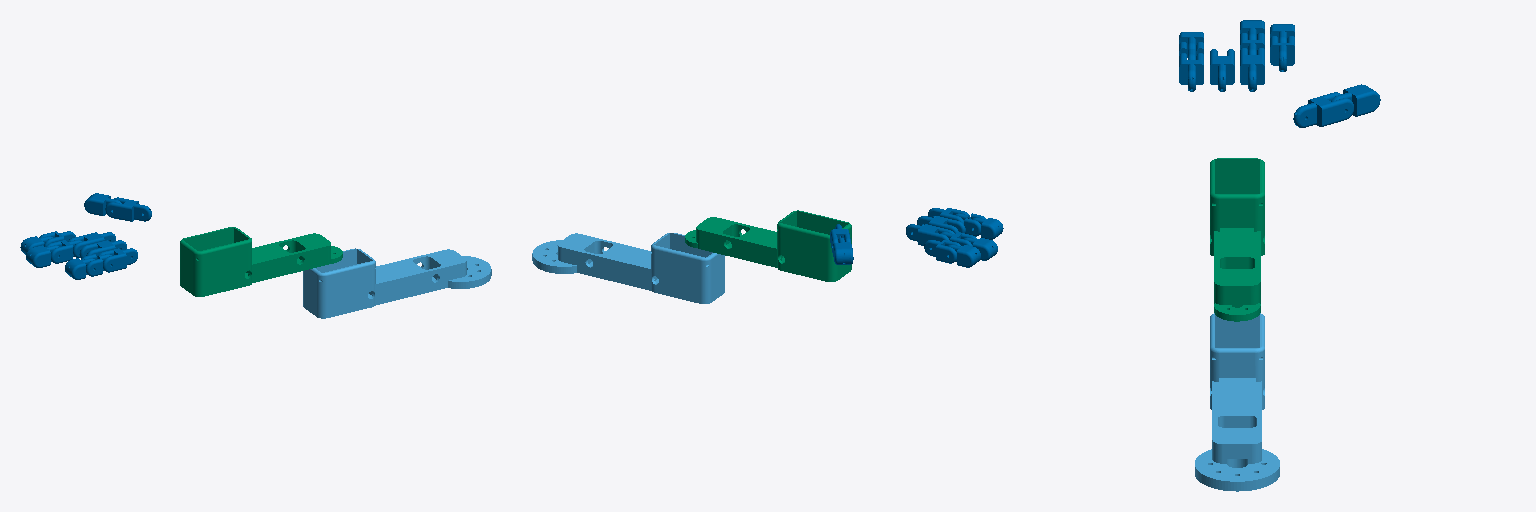
robot.urdf — cocomi_arm_v2:
<?xml version="1.0"?>
<!-- COCOMI / ここちゃん arm v2 (auto-generated). PLA mass = ~50% printed estimate; servos/actuator added as boxes.
     STS3215 55 g x2, grip servo 13.4 g, AK45-10 placeholder 260 g. Units m/kg/rad.
     finger_grip is SIMPLIFIED: one link holds all finger segments (open pose); real fingers are tendon-driven pin joints. -->
<robot name="cocomi_arm_v2">
 <link name="shoulder_base">
  <inertial><origin xyz="3.7728e-10 0.00039949 -0.023343"/><mass value="0.27900"/>
   <inertia ixx="1.1966e-04" ixy="-8.6654e-13" ixz="-8.3695e-13" iyy="1.1667e-04" iyz="2.3620e-06" izz="1.3768e-04"/></inertial>
  <visual><origin xyz="0 0 0" rpy="0 0 0"/><geometry><mesh filename="shoulder_cup.stl" scale="0.001 0.001 0.001"/></geometry></visual>
  <visual><origin xyz="0 0 0" rpy="0 0 0"/><geometry><mesh filename="actuator_AK45-10_placeholder.stl" scale="0.001 0.001 0.001"/></geometry></visual>
 </link>
 <link name="upper_arm">
  <inertial><origin xyz="-0.088002 -5.6798e-12 0.019498"/><mass value="0.09141"/>
   <inertia ixx="1.7332e-05" ixy="3.6248e-14" ixz="1.6594e-05" iyy="1.4181e-04" iyz="5.4687e-15" izz="1.3773e-04"/></inertial>
  <visual><origin xyz="0 0 0" rpy="0 0 0"/><geometry><mesh filename="upper_arm.stl" scale="0.001 0.001 0.001"/></geometry></visual>
  <collision><geometry><mesh filename="upper_arm.stl" scale="0.001 0.001 0.001"/></geometry></collision>
 </link>
 <link name="forearm">
  <inertial><origin xyz="-0.085902 1.2409e-10 0.017393"/><mass value="0.08222"/>
   <inertia ixx="1.4997e-05" ixy="-1.1324e-13" ixz="9.9105e-06" iyy="8.1888e-05" iyz="-9.7500e-14" izz="7.7475e-05"/></inertial>
  <visual><origin xyz="0 0 0" rpy="0 0 0"/><geometry><mesh filename="forearm.stl" scale="0.001 0.001 0.001"/></geometry></visual>
  <collision><geometry><mesh filename="forearm.stl" scale="0.001 0.001 0.001"/></geometry></collision>
 </link>
 <link name="hand">
  <inertial><origin xyz="-0.034709 0.0002925 0.010736"/><mass value="0.08155"/>
   <inertia ixx="3.1481e-05" ixy="-1.4148e-07" ixz="-5.7969e-07" iyy="4.6549e-05" iyz="-6.2895e-09" izz="7.2147e-05"/></inertial>
  <visual><origin xyz="0 0 0" rpy="0 0 0"/><geometry><mesh filename="palm.stl" scale="0.001 0.001 0.001"/></geometry></visual>
  <collision><geometry><mesh filename="palm.stl" scale="0.001 0.001 0.001"/></geometry></collision>
 </link>
 <link name="fingers_simplified">
  <inertial><origin xyz="-0.022259 0.0020589 -1.1346e-10"/><mass value="0.02604"/>
   <inertia ixx="1.9676e-05" ixy="-1.2377e-05" ixz="-4.4090e-14" iyy="2.4278e-05" iyz="1.0397e-14" izz="4.3312e-05"/></inertial>
  <visual><origin xyz="0 0.017 0" rpy="0 0 0.0000"/><geometry><mesh filename="finger_index_1.stl" scale="0.001 0.001 0.001"/></geometry></visual>
  <visual><origin xyz="-0.026 0.017 0" rpy="0 0 0.0000"/><geometry><mesh filename="finger_index_2.stl" scale="0.001 0.001 0.001"/></geometry></visual>
  <visual><origin xyz="-0.044 0.017 0" rpy="0 0 0.0000"/><geometry><mesh filename="finger_index_3.stl" scale="0.001 0.001 0.001"/></geometry></visual>
  <visual><origin xyz="0 0 0" rpy="0 0 0.0000"/><geometry><mesh filename="finger_middle_1.stl" scale="0.001 0.001 0.001"/></geometry></visual>
  <visual><origin xyz="-0.028 0 0" rpy="0 0 0.0000"/><geometry><mesh filename="finger_middle_2.stl" scale="0.001 0.001 0.001"/></geometry></visual>
  <visual><origin xyz="-0.048 0 0" rpy="0 0 0.0000"/><geometry><mesh filename="finger_middle_3.stl" scale="0.001 0.001 0.001"/></geometry></visual>
  <visual><origin xyz="0 -0.017 0" rpy="0 0 0.0000"/><geometry><mesh filename="finger_ring_1.stl" scale="0.001 0.001 0.001"/></geometry></visual>
  <visual><origin xyz="-0.026 -0.017 0" rpy="0 0 0.0000"/><geometry><mesh filename="finger_ring_2.stl" scale="0.001 0.001 0.001"/></geometry></visual>
  <visual><origin xyz="-0.044 -0.017 0" rpy="0 0 0.0000"/><geometry><mesh filename="finger_ring_3.stl" scale="0.001 0.001 0.001"/></geometry></visual>
  <visual><origin xyz="0 -0.034 0" rpy="0 0 0.0000"/><geometry><mesh filename="finger_pinky_1.stl" scale="0.001 0.001 0.001"/></geometry></visual>
  <visual><origin xyz="-0.021 -0.034 0" rpy="0 0 0.0000"/><geometry><mesh filename="finger_pinky_2.stl" scale="0.001 0.001 0.001"/></geometry></visual>
  <visual><origin xyz="-0.036 -0.034 0" rpy="0 0 0.0000"/><geometry><mesh filename="finger_pinky_3.stl" scale="0.001 0.001 0.001"/></geometry></visual>
  <visual><origin xyz="0.048411 0.028777 0" rpy="0 0 -0.9599"/><geometry><mesh filename="finger_thumb_1.stl" scale="0.001 0.001 0.001"/></geometry></visual>
  <visual><origin xyz="0.034646 0.048436 0" rpy="0 0 -0.9599"/><geometry><mesh filename="finger_thumb_2.stl" scale="0.001 0.001 0.001"/></geometry></visual>
 </link>
 <joint name="shoulder_pitch" type="revolute"><parent link="shoulder_base"/><child link="upper_arm"/>
  <origin xyz="0 0 0"/><axis xyz="0 0 1"/><limit lower="-2.8" upper="0.8" effort="3" velocity="5"/></joint>
 <joint name="elbow" type="revolute"><parent link="upper_arm"/><child link="forearm"/>
  <origin xyz="-0.12 0 0.047"/><axis xyz="0 0 1"/><limit lower="-2.4" upper="0" effort="1.5" velocity="4"/></joint>
 <joint name="wrist" type="revolute"><parent link="forearm"/><child link="hand"/>
  <origin xyz="-0.11 0 0.044"/><axis xyz="0 0 1"/><limit lower="-1.2" upper="1.2" effort="1.5" velocity="4"/></joint>
 <joint name="finger_grip" type="revolute"><parent link="hand"/><child link="fingers_simplified"/>
  <origin xyz="-0.079 0.0085 0.011"/><axis xyz="0 1 0"/><limit lower="0" upper="1.4" effort="0.2" velocity="3"/></joint>
</robot>

--- Facts derived from the render (not from the file) ---
3 views of the same robot in one strip: view 1: azimuth 30°, elevation 25°; view 2: azimuth 150°, elevation 25°; view 3: azimuth 270°, elevation 25° (orthographic).
Robot: cocomi_arm_v2 — 5 links, 4 joints (4 revolute); root link shoulder_base; default pose: all joints at 0.
Links seen in each view (by area): view 1: upper_arm, forearm, fingers_simplified; view 2: upper_arm, forearm, fingers_simplified; view 3: upper_arm, forearm, fingers_simplified.
Link boxes in pixels (x1,y1,x2,y2): upper_arm: [303, 248, 491, 318]; forearm: [180, 227, 342, 296]; fingers_simplified: [20, 193, 151, 279]; upper_arm: [532, 233, 724, 303]; forearm: [685, 210, 851, 281]; fingers_simplified: [830, 208, 1003, 267]; upper_arm: [1195, 313, 1279, 491]; forearm: [1210, 158, 1264, 321]; fingers_simplified: [1179, 20, 1380, 127].
Bounding box of the posed robot: 0.4035 × 0.1127 × 0.1055 m (x, y, z).
Meshes: 19 distinct files referenced, 13 mesh visuals loaded (13 binary STL); not drawn: 6 (reference not matched to a file when rendering).
